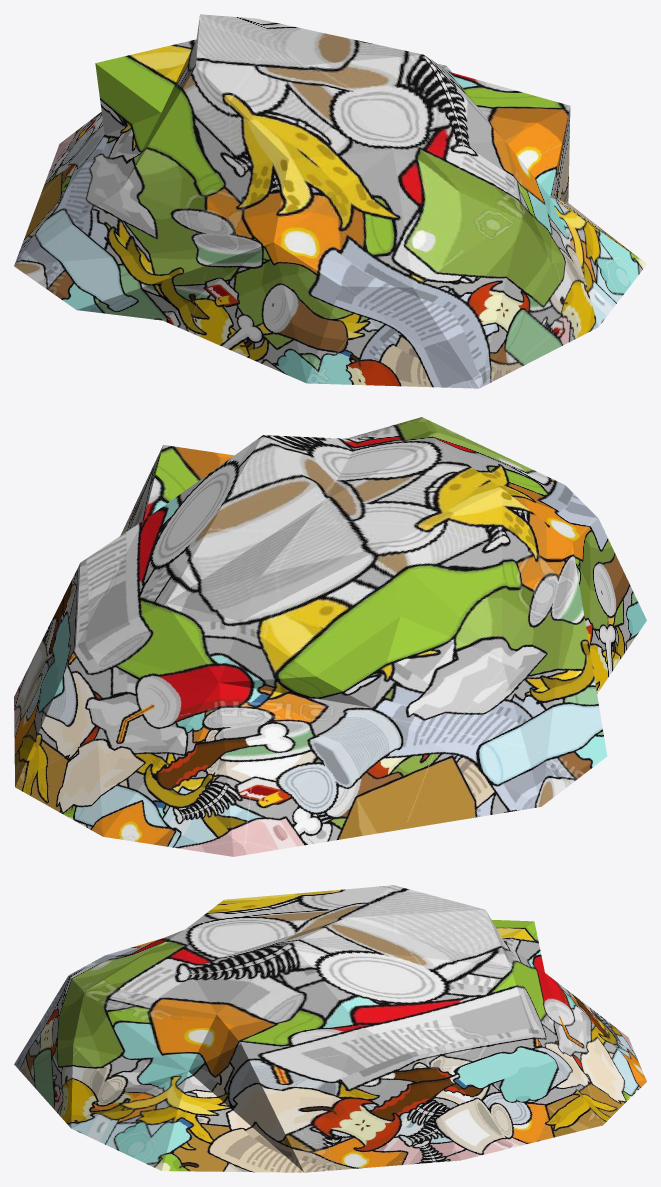
File: pile2.fbx
3 views of the same model, one above another, from view 1: azimuth 30°, elevation 25°; view 2: azimuth 150°, elevation 25°; view 3: azimuth 270°, elevation 25° (orthographic). The views are drawn at different scales.
Visible parts, largest first — view 1: Icosphere.002; view 2: Icosphere.002; view 3: Icosphere.002.
Boxes of the visible parts, <box> form: Icosphere.002: <box>14,14,646,388</box>; Icosphere.002: <box>14,417,646,856</box>; Icosphere.002: <box>14,885,646,1172</box>.
Size of the model in its own units: 276 by 105 by 365.
